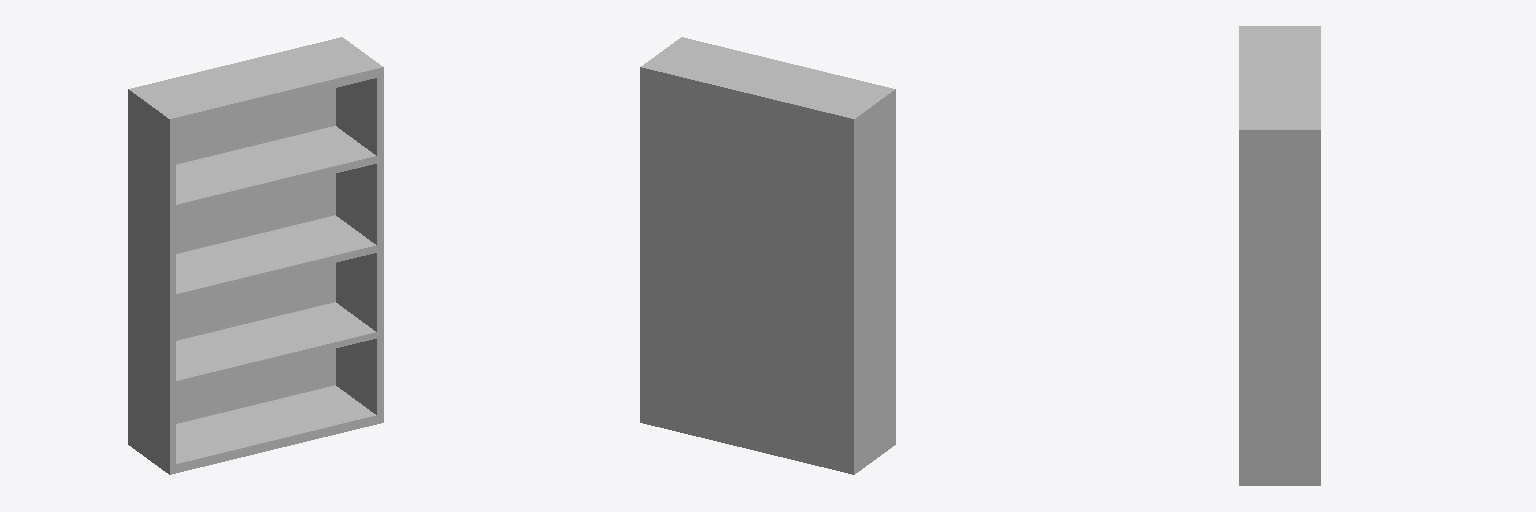
Rendered from New-Showcase.obj.
3 renders of one model, left to right at view 1: azimuth 30°, elevation 25°; view 2: azimuth 150°, elevation 25°; view 3: azimuth 270°, elevation 25°, orthographic.
Visible parts, largest first — view 1: Cube.001; view 2: Cube.001; view 3: Cube.001.
Part boxes in pixels (x1,y1,x2,y2): Cube.001: (128, 37, 383, 474); Cube.001: (640, 37, 895, 474); Cube.001: (1239, 26, 1320, 485).
Size of the model in its own units: 6 by 9.53 by 2.